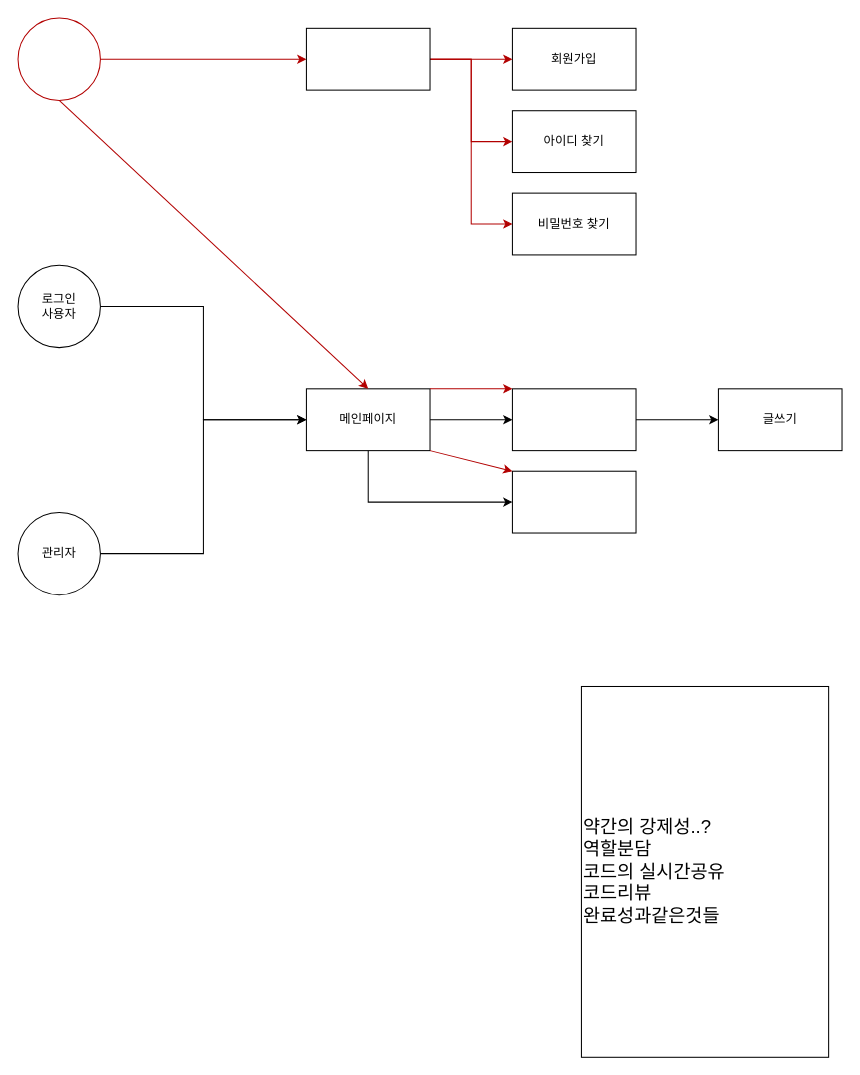
The diagram is 860 pixels wide and 1075 high, and some of its shapes have lost their labels. The shapes that lost their labels are listed below. From the top down, each one's centre as x and y in pixels, then its label:
At point 58,58: "비로그인 사용자".
At point 367,58: "로그인페이지".
At point 573,419: "프로젝트 인원모집 (게시판)".
At point 573,501: "프로젝트 현황 (진행중, 완료)".
